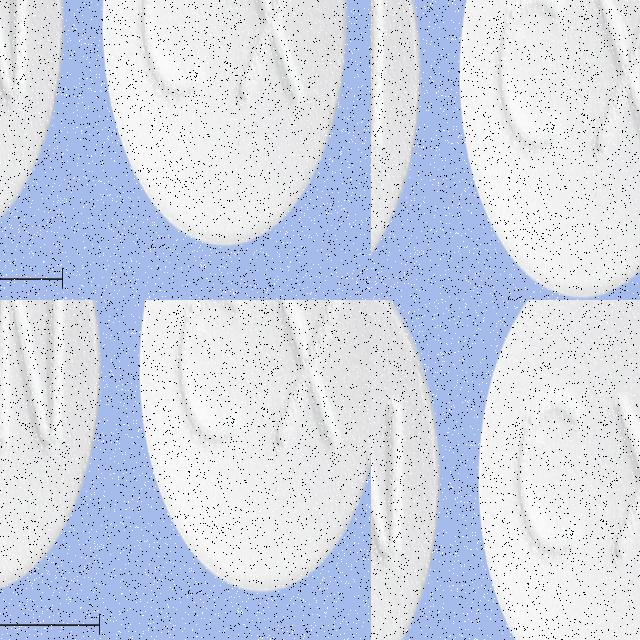Cipron: (474, 300, 640, 640), (371, 300, 443, 640)
Clarimicin: (371, 17, 469, 300), (448, 0, 640, 98)
Clearmycin - 250mg: (0, 74, 229, 300), (315, 74, 371, 300)
Cyspec: (0, 349, 147, 640)
